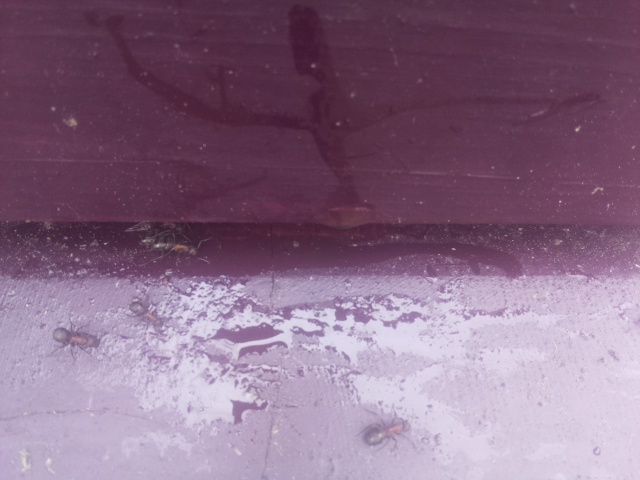ant: (352, 412, 420, 452), (44, 323, 103, 354), (121, 297, 169, 334), (136, 233, 198, 256)
